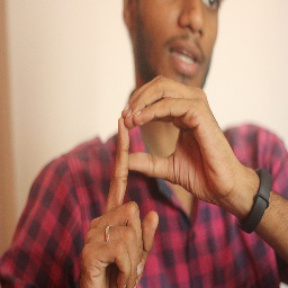P: (81, 72, 223, 278)
